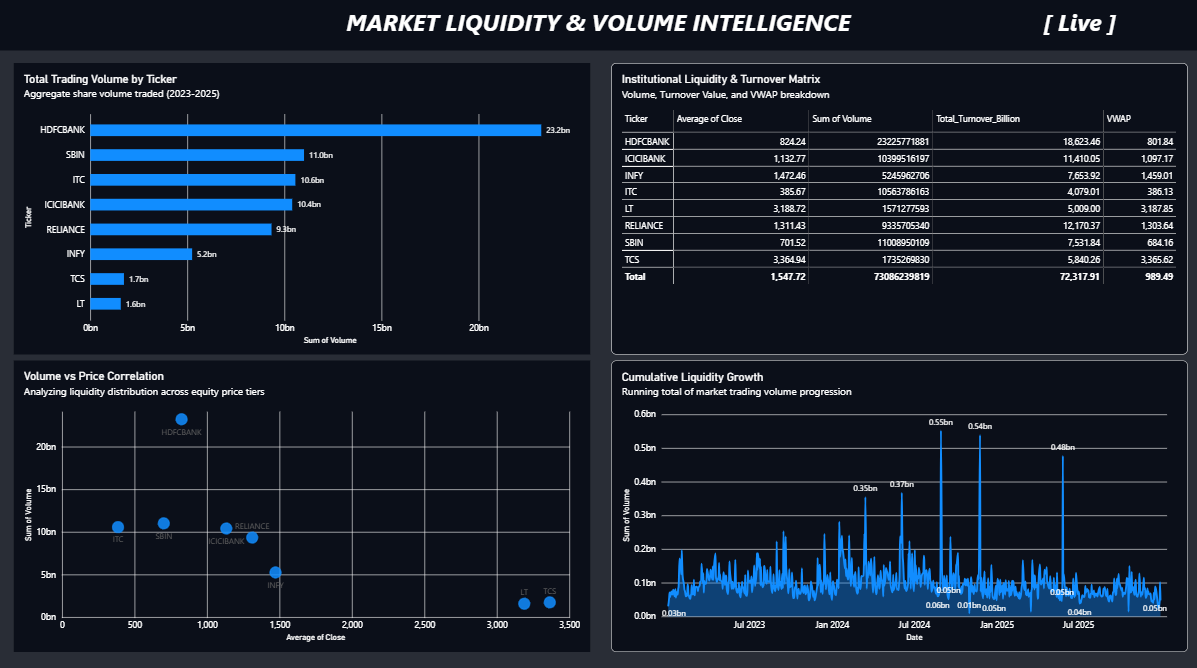

The page's visual inventory and layout, read from the dashboard file:
{"tool":"powerbi","page":{"name":"Market Liquidity & Volume Intelligence","canvas":[1920,1080],"ordinal":2},"visuals":[{"type":"shape","box":[0,0,1920,84],"z":0},{"type":"textbox","box":[0,12,1920,60],"z":1},{"type":"clusteredBarChart","title":"Total Trading Volume by Ticker","fields":{"Category":["Cleaned_Stock_Historical_Data.Ticker"],"Y":["Sum(Cleaned_Stock_Historical_Data.Volume)"]},"box":[22,104,922,466],"z":2},{"type":"pivotTable","title":"Institutional Liquidity & Turnover Matrix","fields":{"Rows":["Cleaned_Stock_Historical_Data.Ticker"],"Values":["Avg(Cleaned_Stock_Historical_Data.Close)","Sum(Cleaned_Stock_Historical_Data.Volume)","Cleaned_Stock_Historical_Data.Total_Turnover_Billion","Cleaned_Stock_Historical_Data.VWAP"]},"box":[978,104,922,466],"z":3},{"type":"scatterChart","title":"Volume vs Price Correlation","fields":{"Category":["Cleaned_Stock_Historical_Data.Ticker"],"X":["Avg(Cleaned_Stock_Historical_Data.Close)"],"Y":["Sum(Cleaned_Stock_Historical_Data.Volume)"]},"box":[22,580,922,466],"z":4},{"type":"areaChart","title":"Cumulative Liquidity Growth","fields":{"Category":["Cleaned_Stock_Historical_Data.Date"],"Y":["Sum(Cleaned_Stock_Historical_Data.Volume)"]},"box":[978,580,922,466],"z":5}]}

Visuals, with their boxes in screenshot pixels (x1, y1, x2, y2), scaled from the page's 1920x1080 canvas onto the 1197x668 screenshot:
shape: region(0, 0, 1196, 52)
textbox: region(0, 7, 1196, 45)
"Total Trading Volume by Ticker" clusteredBarChart: region(14, 64, 589, 353)
"Institutional Liquidity & Turnover Matrix" pivotTable: region(610, 64, 1185, 353)
"Volume vs Price Correlation" scatterChart: region(14, 359, 589, 647)
"Cumulative Liquidity Growth" areaChart: region(610, 359, 1185, 647)
